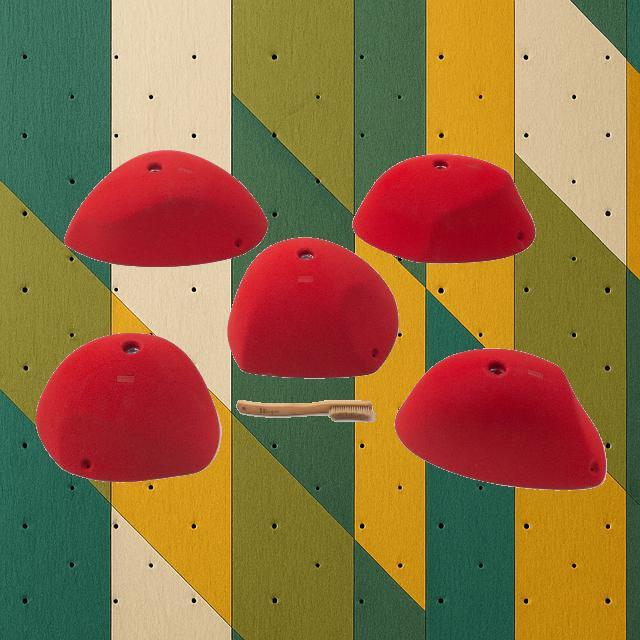Sloper: (394, 349, 606, 491), (35, 333, 221, 483), (226, 236, 400, 378), (62, 149, 268, 267), (352, 153, 536, 263)
